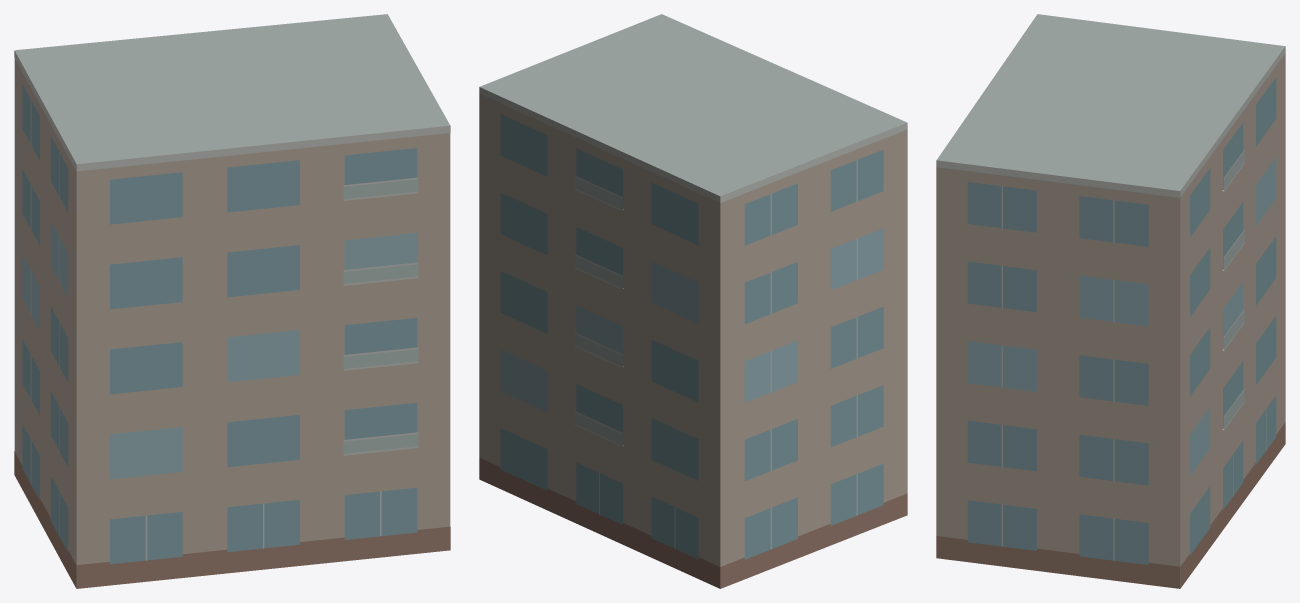
The model's file is survey-upis-32878355.glb.
3 views of the same model, side by side, from view 1: azimuth 30°, elevation 25°; view 2: azimuth 150°, elevation 25°; view 3: azimuth 270°, elevation 25° (orthographic). The views are drawn at different scales.
Visible parts, largest first — view 1: survey-upis-32878355.tmp; view 2: survey-upis-32878355.tmp; view 3: survey-upis-32878355.tmp.
Part boxes in pixels (left/top/right/bottom): survey-upis-32878355.tmp: left=14, top=14, right=450, bottom=588; survey-upis-32878355.tmp: left=479, top=14, right=907, bottom=588; survey-upis-32878355.tmp: left=936, top=14, right=1285, bottom=588.
Bounding box in the file's own units: 13.75 × 14.4 × 11.46.
